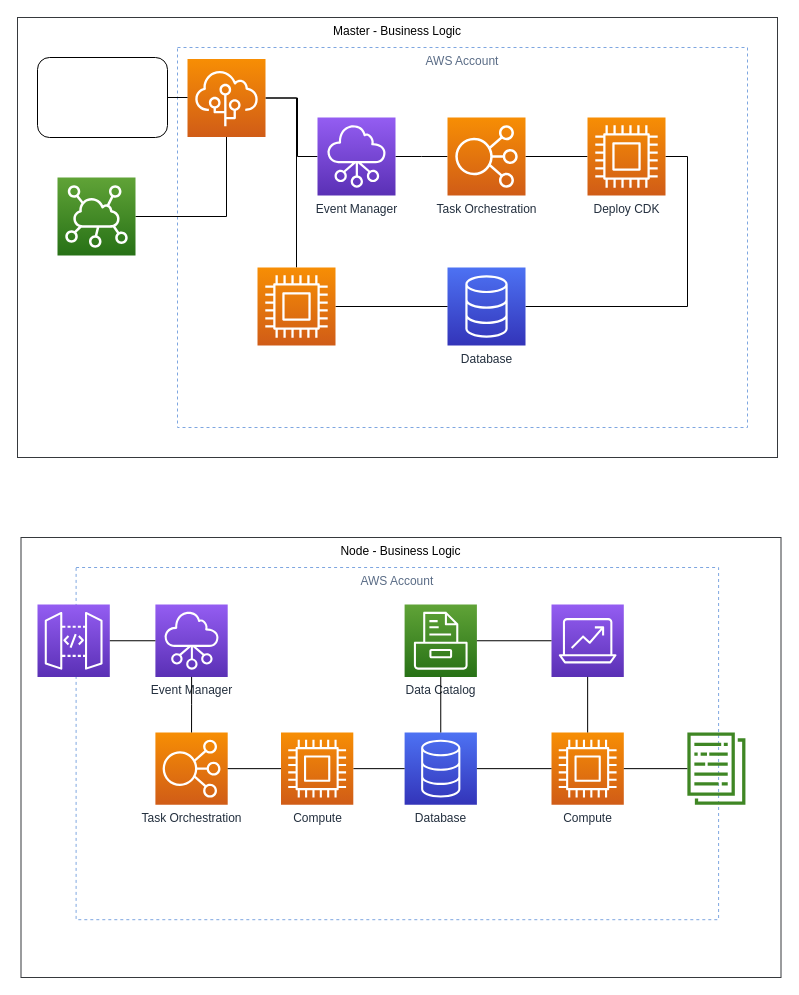
Image size: 799x995. Some labels were removed from this diagram. Each missing label, with the centre of its shape:
"- Infra CRUD - User management - Dashboard - Annotate data" goes at pixel 102 97.
"API Gateway" goes at pixel 73 640.
"Create Visualisation" goes at pixel 587 640.
"JSON Payload" goes at pixel 716 768.
"Node" goes at pixel 96 216.
"Update User State" goes at pixel 296 306.
"Web App" goes at pixel 226 97.
